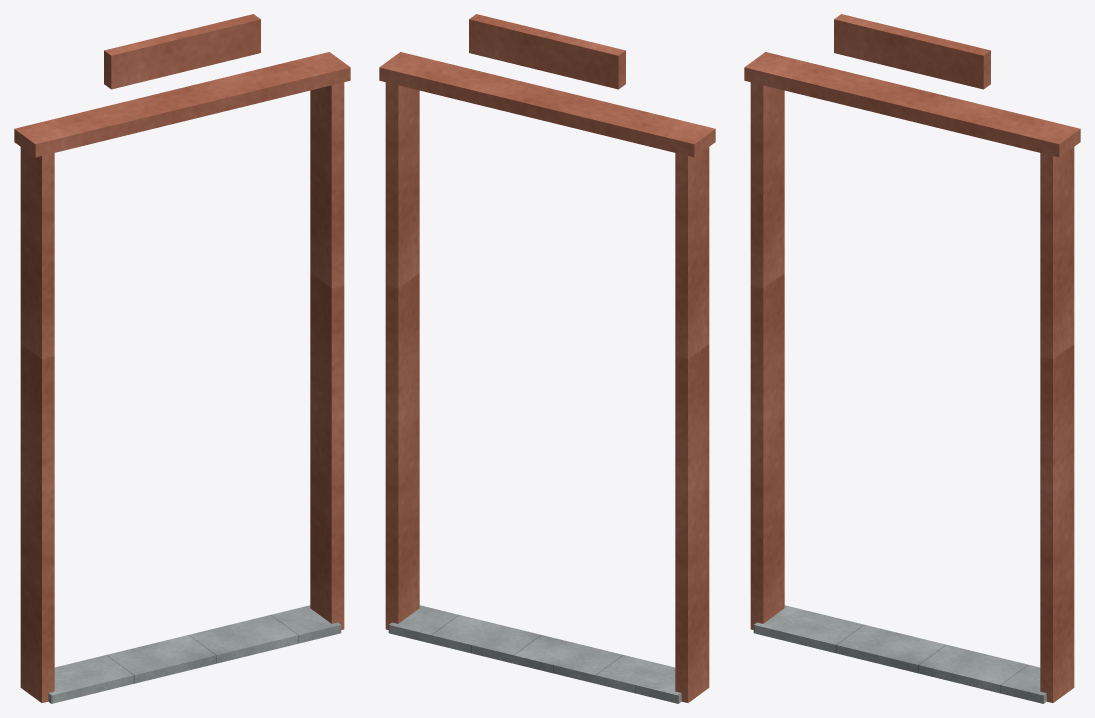
Rendered from Fire_Door_Frame.glb.
3 renders of one model, left to right at view 1: azimuth 30°, elevation 25°; view 2: azimuth 150°, elevation 25°; view 3: azimuth 330°, elevation 25°, orthographic.
Visible parts, largest first — view 1: VIS_Fire_Door_Frame_jambL_0000, VIS_Fire_Door_Frame_jambR_0001, VIS_Fire_Door_Frame_lintel_0002, VIS_Fire_Door_Frame_threshold_0003, VIS_FireExit_Plaque_0004; view 2: VIS_Fire_Door_Frame_jambL_0000, VIS_Fire_Door_Frame_jambR_0001, VIS_Fire_Door_Frame_lintel_0002, VIS_Fire_Door_Frame_threshold_0003, VIS_FireExit_Plaque_0004; view 3: VIS_Fire_Door_Frame_jambR_0001, VIS_Fire_Door_Frame_jambL_0000, VIS_Fire_Door_Frame_lintel_0002, VIS_Fire_Door_Frame_threshold_0003, VIS_FireExit_Plaque_0004.
Boxes of the visible parts, bbox=[...] form: VIS_Fire_Door_Frame_jambL_0000: bbox=[20, 146, 54, 702]; VIS_Fire_Door_Frame_jambR_0001: bbox=[310, 82, 344, 629]; VIS_Fire_Door_Frame_lintel_0002: bbox=[14, 52, 350, 157]; VIS_Fire_Door_Frame_threshold_0003: bbox=[48, 605, 341, 703]; VIS_FireExit_Plaque_0004: bbox=[104, 14, 260, 89]; VIS_Fire_Door_Frame_jambL_0000: bbox=[675, 147, 709, 702]; VIS_Fire_Door_Frame_jambR_0001: bbox=[385, 76, 419, 629]; VIS_Fire_Door_Frame_lintel_0002: bbox=[379, 52, 715, 157]; VIS_Fire_Door_Frame_threshold_0003: bbox=[388, 605, 681, 703]; VIS_FireExit_Plaque_0004: bbox=[469, 14, 625, 89]; VIS_Fire_Door_Frame_jambR_0001: bbox=[1040, 147, 1074, 702]; VIS_Fire_Door_Frame_jambL_0000: bbox=[750, 76, 784, 629]; VIS_Fire_Door_Frame_lintel_0002: bbox=[744, 52, 1080, 157]; VIS_Fire_Door_Frame_threshold_0003: bbox=[753, 605, 1046, 703]; VIS_FireExit_Plaque_0004: bbox=[834, 14, 990, 89].
Size of the model in its own units: 1.37 by 2.59 by 0.21.
2 materials, 2 textured.
